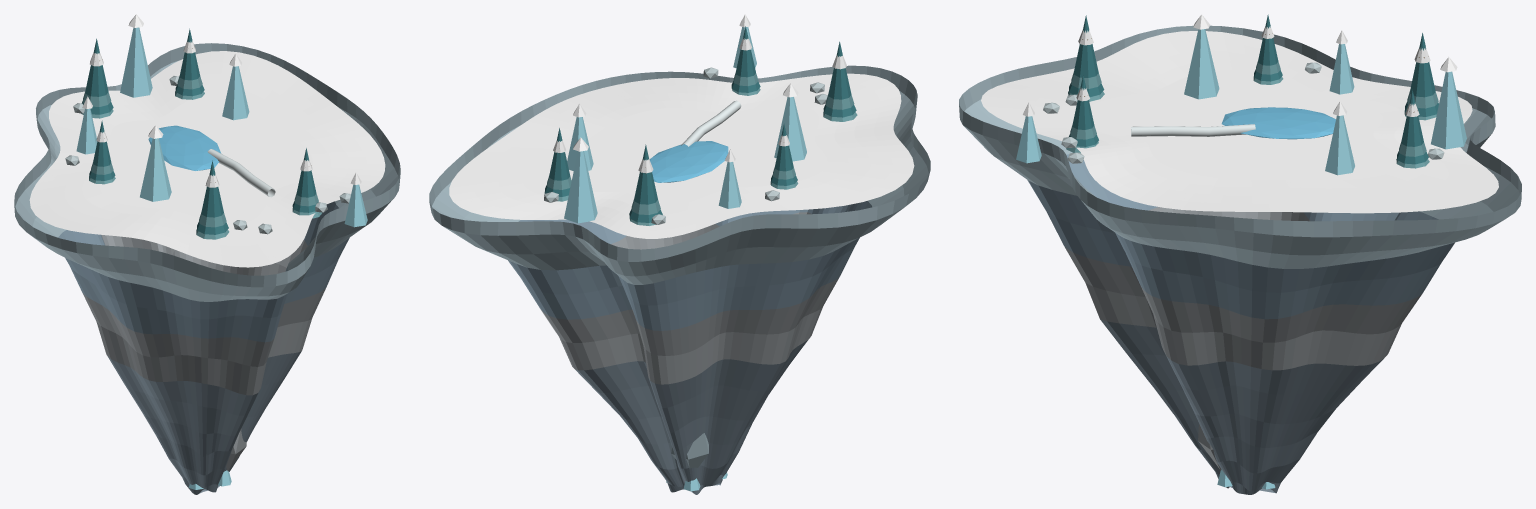
The model's file is FI-034-Paleveil-Glacier.glb.
The picture shows the model from 3 angles, left to right: view 1: azimuth 30°, elevation 25°; view 2: azimuth 150°, elevation 25°; view 3: azimuth 270°, elevation 25°; orthographic projection. The views are drawn at different scales.
Visible parts, largest first — view 1: FI-034_StratifiedFloatingCliff, FI-034_BuildableTop, FrozenTarn, BlueIceSpire_02, BlueIceSpire_00, BlueIceSpire_01, SnowSaddleTrail, BlueIceSpire_04, BlueIceSpire_03, Frostfir_02_Bough_03, Frostfir_00_Bough_03, Frostfir_03_Bough_03 (+1 smaller); view 2: FI-034_StratifiedFloatingCliff, FI-034_BuildableTop, FrozenTarn, BlueIceSpire_02, BlueIceSpire_00, BlueIceSpire_04, Frostfir_02_Bough_03, SnowSaddleTrail, BlueIceSpire_01, Frostfir_00_Bough_03, FI-034_GlacialRib_00; view 3: FI-034_StratifiedFloatingCliff, FI-034_BuildableTop, FrozenTarn, BlueIceSpire_02, BlueIceSpire_00, SnowSaddleTrail, BlueIceSpire_01, BlueIceSpire_04, BlueIceSpire_03, Frostfir_02_Bough_03, Frostfir_00_Bough_03, Frostfir_03_Bough_03.
Boxes of the visible parts, x1,y1,x2,y2 form: FI-034_StratifiedFloatingCliff: (14, 43, 400, 494); FI-034_BuildableTop: (29, 51, 385, 267); FrozenTarn: (148, 125, 221, 170); BlueIceSpire_02: (120, 27, 152, 97); BlueIceSpire_00: (140, 138, 171, 201); BlueIceSpire_01: (222, 66, 249, 120); SnowSaddleTrail: (207, 149, 275, 197); BlueIceSpire_04: (76, 108, 97, 154); BlueIceSpire_03: (344, 184, 367, 227); Frostfir_02_Bough_03: (85, 38, 108, 96); Frostfir_00_Bough_03: (201, 160, 223, 217); Frostfir_03_Bough_03: (180, 28, 200, 80); FI-034_StratifiedFloatingCliff: (429, 65, 930, 494); FI-034_BuildableTop: (449, 73, 914, 238); FrozenTarn: (649, 141, 728, 182); BlueIceSpire_02: (564, 151, 597, 223); BlueIceSpire_00: (774, 97, 806, 161); BlueIceSpire_04: (718, 162, 741, 208); Frostfir_02_Bough_03: (634, 144, 657, 204); SnowSaddleTrail: (681, 100, 741, 146); BlueIceSpire_01: (567, 117, 593, 170); Frostfir_00_Bough_03: (828, 41, 851, 99); FI-034_GlacialRib_00: (671, 433, 708, 468); FI-034_StratifiedFloatingCliff: (959, 25, 1521, 494); FI-034_BuildableTop: (981, 31, 1498, 213); FrozenTarn: (1221, 107, 1335, 139); BlueIceSpire_02: (1431, 71, 1466, 149); BlueIceSpire_00: (1184, 29, 1219, 99); SnowSaddleTrail: (1131, 124, 1255, 136); BlueIceSpire_01: (1325, 115, 1354, 175); BlueIceSpire_04: (1329, 44, 1354, 94); BlueIceSpire_03: (1016, 116, 1041, 163); Frostfir_02_Bough_03: (1410, 33, 1435, 97); Frostfir_00_Bough_03: (1074, 15, 1098, 77); Frostfir_03_Bough_03: (1401, 89, 1423, 146).
Bounding box in the file's own units: 11.57 × 12.09 × 13.92.
